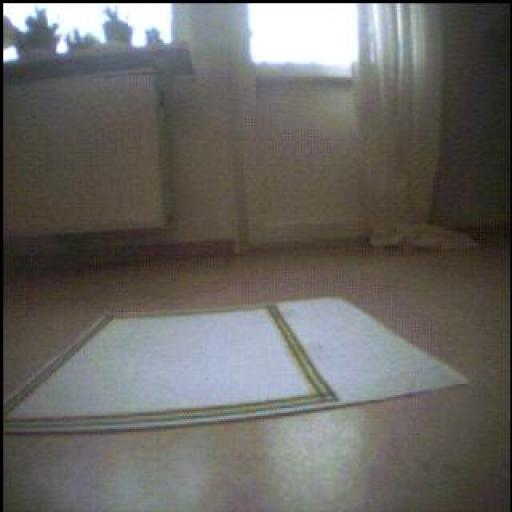Pad: (6, 299, 468, 435)
